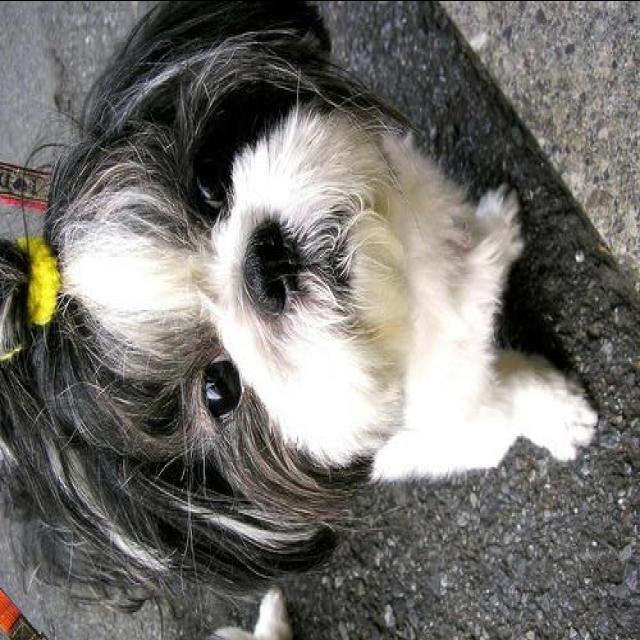shih_tzu: (0, 31, 609, 612)
